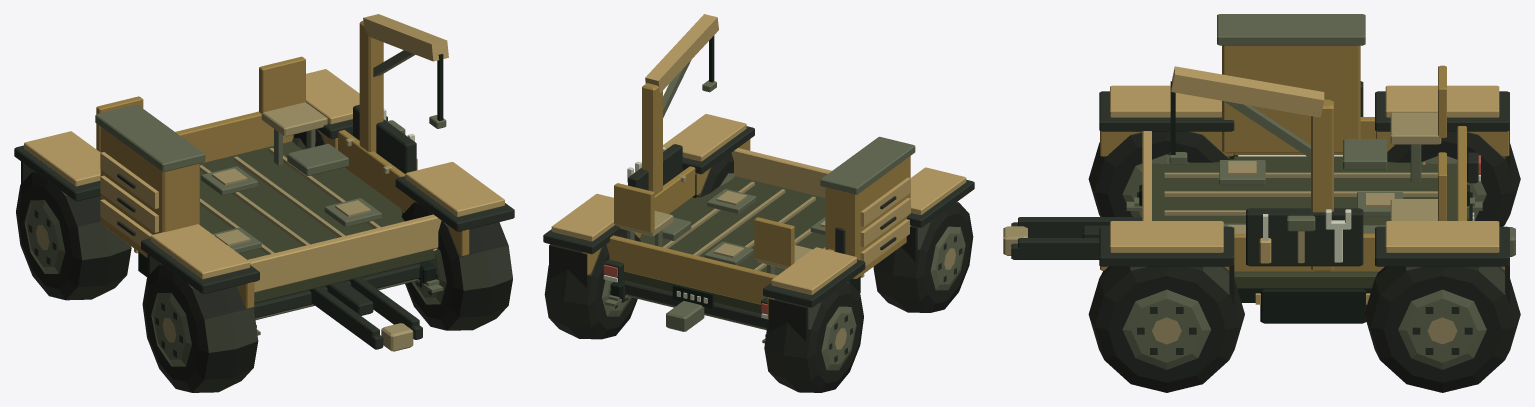
The model's file is military_wagon_repair.glb.
The picture shows the model from 3 angles, left to right: view 1: azimuth 30°, elevation 25°; view 2: azimuth 150°, elevation 25°; view 3: azimuth 270°, elevation 25°; orthographic projection. The views are drawn at different scales.
Parts seen in each view (by area): view 1: WagonDeck.001, WagonDetails_repair, AllTerrainTire.004, AllTerrainTire.006, AllTerrainTire.005, DrawbarFrame.001; view 2: WagonDeck.001, WagonDetails_repair, AllTerrainTire.006, AllTerrainTire.004, AllTerrainTire.007, AllTerrainTire.005; view 3: WagonDeck.001, WagonDetails_repair, AllTerrainTire.005, AllTerrainTire.007, AllTerrainTire.004, AllTerrainTire.006, DrawbarFrame.001.
Boxes of the visible parts, x1,y1,x2,y2 form: WagonDeck.001: (14, 56, 514, 340); WagonDetails_repair: (95, 14, 448, 263); AllTerrainTire.004: (142, 264, 258, 392); AllTerrainTire.006: (16, 171, 131, 300); AllTerrainTire.005: (401, 202, 512, 330); DrawbarFrame.001: (311, 283, 422, 351); WagonDeck.001: (543, 114, 974, 343); WagonDetails_repair: (627, 14, 915, 278); AllTerrainTire.006: (764, 281, 863, 392); AllTerrainTire.004: (873, 202, 973, 312); AllTerrainTire.007: (544, 230, 640, 339); AllTerrainTire.005: (697, 153, 734, 197); WagonDeck.001: (1018, 65, 1515, 323); WagonDetails_repair: (1169, 14, 1365, 271); AllTerrainTire.005: (1088, 266, 1244, 392); AllTerrainTire.007: (1364, 266, 1520, 392); AllTerrainTire.004: (1088, 131, 1237, 216); AllTerrainTire.006: (1387, 131, 1520, 226); DrawbarFrame.001: (1003, 222, 1099, 259).
Bounding box in the file's own units: 4.48 × 3.83 × 5.82.
2 materials, 2 textured.
